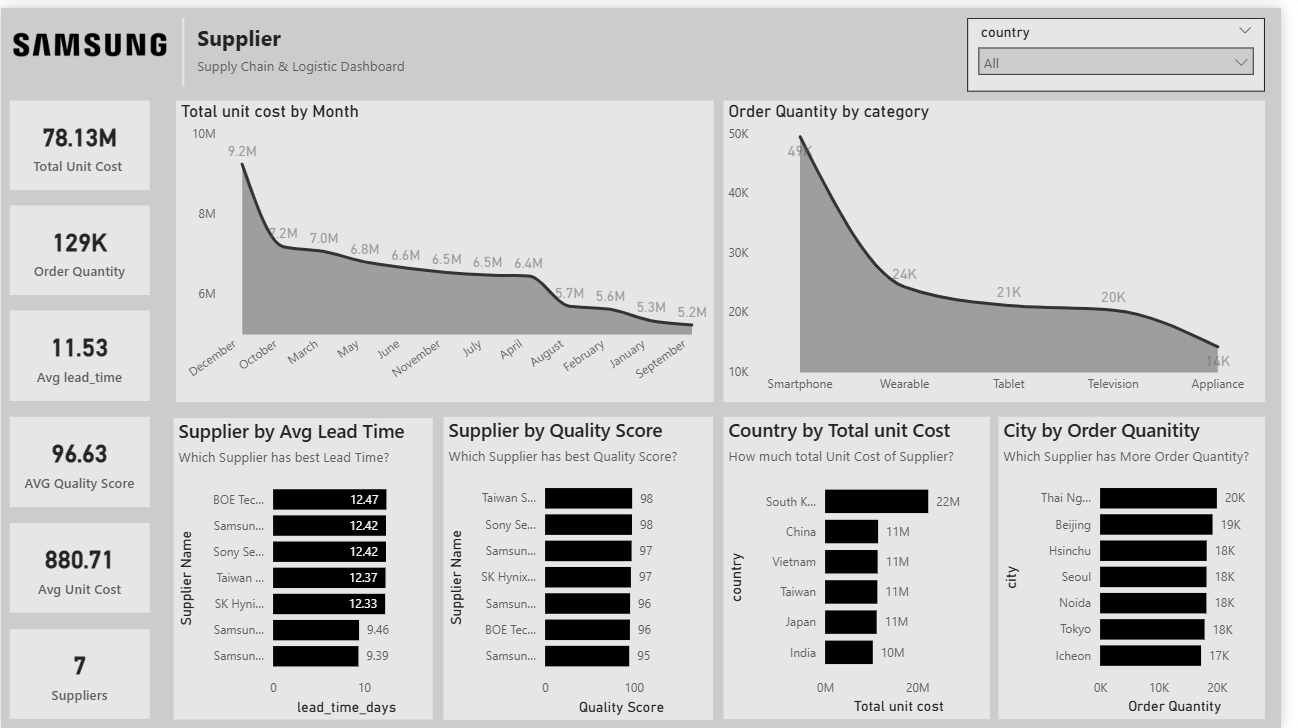

Layout of this report page (visuals, bound fields, positions):
{"tool":"powerbi","page":{"name":"Supplier","canvas":[1280,720],"ordinal":2},"visuals":[{"type":"image","box":[0,9.8,170.6,52.8],"z":0},{"type":"shape","box":[137.4,9.8,89.6,68.7],"z":1000},{"type":"textbox","title":"Supplier","box":[191.4,14.7,311.7,60.1],"z":2000},{"type":"card","fields":{"Values":["Avg(fact_procurement.quality_score)"]},"box":[8.6,409.1,139.9,90.8],"z":3000},{"type":"card","fields":{"Values":["Sum(fact_procurement.order_quantity)"]},"box":[8.6,197.3,139.9,89.6],"z":4000},{"type":"card","fields":{"Values":["Avg(dim_product.unit_cost)"]},"box":[8.6,515.6,139.9,89.6],"z":5000},{"type":"card","fields":{"Values":["Measure Table.Avg lead_time"]},"box":[8.6,302.6,139.9,90.8],"z":6000},{"type":"card","fields":{"Values":["Count(dim_supplier.supplier_name)"]},"box":[8.6,620.9,139.9,89.6],"z":7000},{"type":"card","fields":{"Values":["Sum(fact_procurement.total_cost)"]},"box":[8.6,92,139.9,89.6],"z":8000},{"type":"clusteredBarChart","title":"Supplier by Avg Lead Time","fields":{"Y":["Avg(fact_procurement.lead_time_days)"],"Category":["dim_supplier.supplier_name"]},"box":[173,409.8,258.9,301.8],"z":9000},{"type":"clusteredBarChart","title":"Supplier by Quality Score","fields":{"Category":["dim_supplier.supplier_name"],"Y":["Avg(fact_procurement.quality_score)"]},"box":[442.1,408.6,269.9,303.1],"z":10000},{"type":"areaChart","fields":{"Category":["dim_date.month_name"],"Y":["fact_procurement.Total unit cost"]},"box":[175,92.5,537.5,301.2],"z":11000},{"type":"areaChart","fields":{"Category":["dim_product.category"],"Y":["Sum(fact_procurement.order_quantity)"]},"box":[722.5,92.5,541.2,301.2],"z":12000},{"type":"slicer","fields":{"Values":["dim_supplier.country"]},"box":[966.2,10,297.5,73.8],"z":13000},{"type":"clusteredBarChart","title":"Country by Total unit Cost","fields":{"Y":["fact_procurement.Total unit cost"],"Category":["dim_supplier.country"]},"box":[722.3,408.8,266.2,302.5],"z":14000},{"type":"clusteredBarChart","title":"City by Order Quanitity","fields":{"Y":["Sum(fact_procurement.order_quantity)"],"Category":["dim_supplier.city"]},"box":[997.5,408.8,266.2,302.5],"z":15000},{"type":"actionButton","box":[767.9,12.8,187.7,63.8],"z":15001},{"type":"image","box":[777.7,20.1,54,46.6],"z":15002}]}

Visuals, with their boxes in screenshot pixels (x1, y1, x2, y2), scaled from the page's 1280x720 canvas onto the 1298x728 screenshot:
image: [x1=0, y1=10, x2=173, y2=63]
shape: [x1=139, y1=10, x2=230, y2=79]
"Supplier" textbox: [x1=194, y1=15, x2=510, y2=76]
card - Avg(fact_procurement.quality_score): [x1=9, y1=414, x2=151, y2=505]
card - Sum(fact_procurement.order_quantity): [x1=9, y1=199, x2=151, y2=290]
card - Avg(dim_product.unit_cost): [x1=9, y1=521, x2=151, y2=612]
card - Measure Table.Avg lead_time: [x1=9, y1=306, x2=151, y2=398]
card - Count(dim_supplier.supplier_name): [x1=9, y1=628, x2=151, y2=718]
card - Sum(fact_procurement.total_cost): [x1=9, y1=93, x2=151, y2=184]
"Supplier by Avg Lead Time" clusteredBarChart: [x1=175, y1=414, x2=438, y2=720]
"Supplier by Quality Score" clusteredBarChart: [x1=448, y1=413, x2=722, y2=720]
areaChart - dim_date.month_name x fact_procurement.Total unit cost: [x1=177, y1=94, x2=723, y2=398]
areaChart - dim_product.category x Sum(fact_procurement.order_quantity): [x1=733, y1=94, x2=1281, y2=398]
slicer - dim_supplier.country: [x1=980, y1=10, x2=1281, y2=85]
"Country by Total unit Cost" clusteredBarChart: [x1=732, y1=413, x2=1002, y2=719]
"City by Order Quanitity" clusteredBarChart: [x1=1012, y1=413, x2=1281, y2=719]
actionButton: [x1=779, y1=13, x2=969, y2=77]
image: [x1=789, y1=20, x2=843, y2=67]
